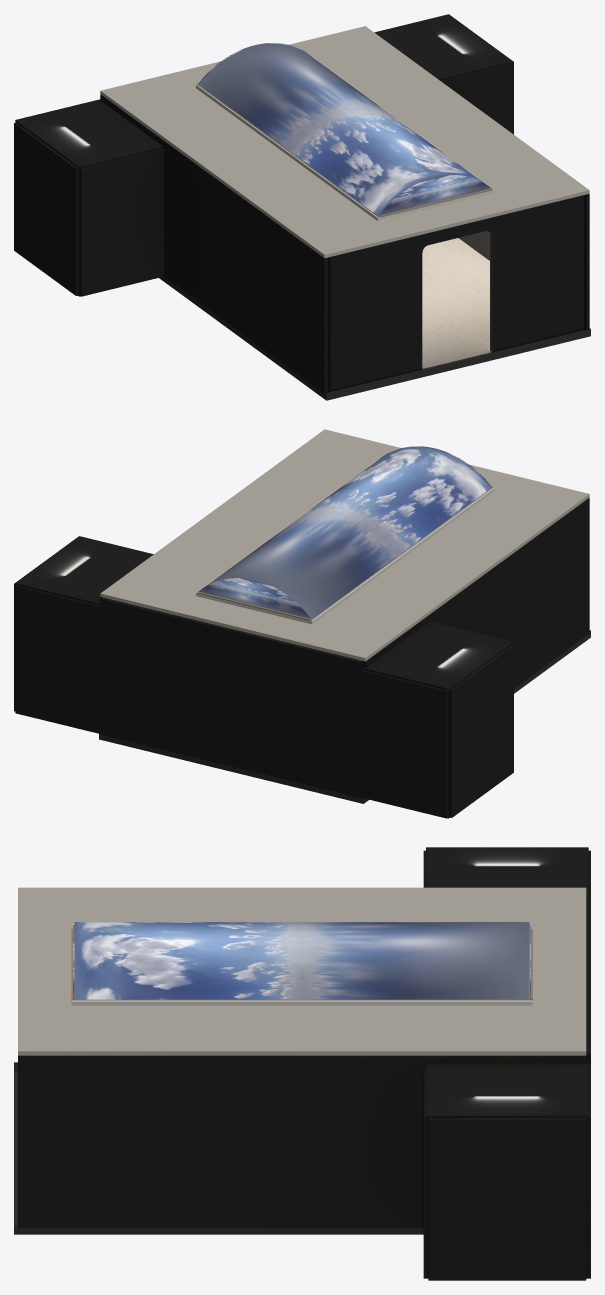
Rendered from hall-daylight.glb.
3 renders of one model, top to bottom at view 1: azimuth 30°, elevation 25°; view 2: azimuth 150°, elevation 25°; view 3: azimuth 270°, elevation 25°, orthographic. The views are drawn at different scales.
Visible parts, largest first — view 1: LIGHTMAP hall walls, LIGHTMAP daylight vault ceiling surround, Daylight vaulted diffuse glazing, SURFACE hall floor, LIGHTMAP daylight roof reveal, Daylight brushed champagne frame; view 2: LIGHTMAP hall walls, LIGHTMAP daylight vault ceiling surround, Daylight vaulted diffuse glazing, SURFACE hall floor, LIGHTMAP daylight roof reveal, Daylight brushed champagne frame; view 3: LIGHTMAP hall walls, LIGHTMAP daylight vault ceiling surround, Daylight vaulted diffuse glazing, SURFACE hall floor, LIGHTMAP daylight roof reveal, Daylight brushed champagne frame.
Part boxes in pixels (box(x1,y1,x2,y2)): LIGHTMAP hall walls: box(14, 14, 589, 393); LIGHTMAP daylight vault ceiling surround: box(100, 26, 589, 257); Daylight vaulted diffuse glazing: box(198, 43, 491, 215); SURFACE hall floor: box(78, 238, 590, 400); LIGHTMAP daylight roof reveal: box(196, 56, 494, 220); Daylight brushed champagne frame: box(197, 57, 492, 217); LIGHTMAP hall walls: box(14, 497, 589, 818); LIGHTMAP daylight vault ceiling surround: box(100, 429, 589, 661); Daylight vaulted diffuse glazing: box(198, 446, 491, 619); SURFACE hall floor: box(99, 630, 590, 818); LIGHTMAP daylight roof reveal: box(196, 460, 494, 624); Daylight brushed champagne frame: box(197, 460, 492, 620); LIGHTMAP hall walls: box(18, 847, 590, 1280); LIGHTMAP daylight vault ceiling surround: box(18, 887, 586, 1055); Daylight vaulted diffuse glazing: box(73, 921, 530, 999); SURFACE hall floor: box(14, 1062, 423, 1234); LIGHTMAP daylight roof reveal: box(71, 1000, 532, 1005); Daylight brushed champagne frame: box(71, 922, 532, 1000).
Bounding box in the file's own units: 20.3 × 7.7 × 18.27.
Materials: 26 (19 with a texture image).
